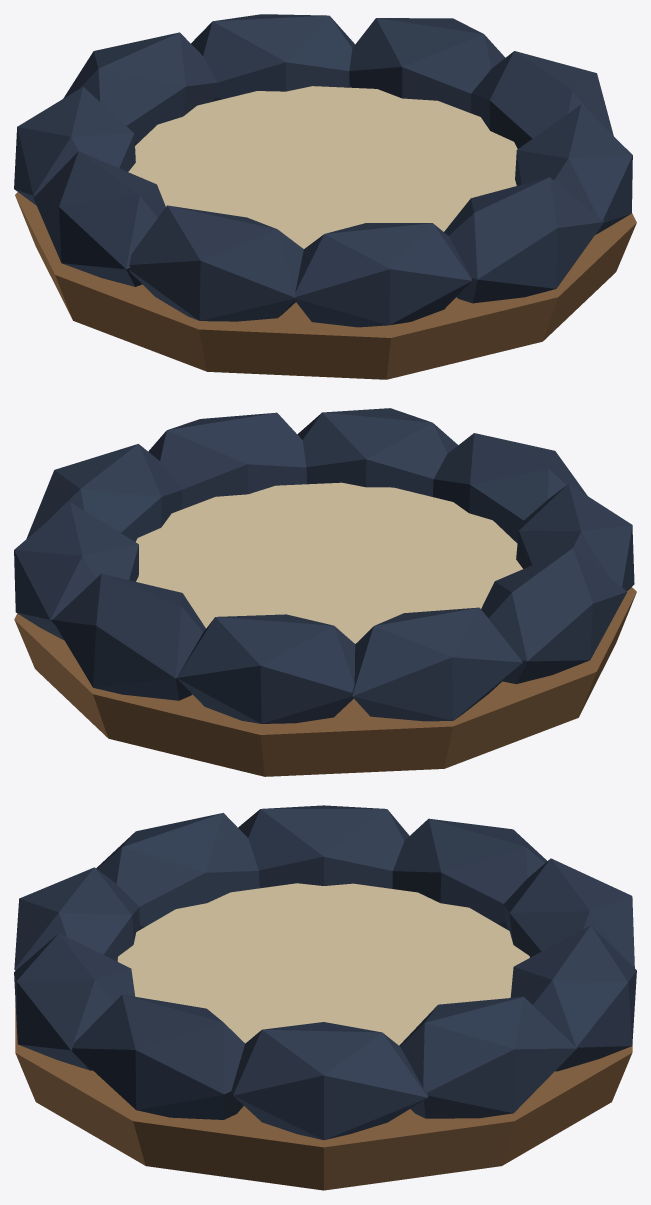
File: biscuit_bed.glb
3 views of the same model, one above another, from view 1: azimuth 30°, elevation 25°; view 2: azimuth 150°, elevation 25°; view 3: azimuth 270°, elevation 25° (orthographic). The views are drawn at different scales.
Parts seen in each view (by area): view 1: biscuit_bed; view 2: biscuit_bed; view 3: biscuit_bed.
Boxes of the visible parts, left/top/right/bottom form: biscuit_bed: left=14, top=14, right=636, bottom=379; biscuit_bed: left=14, top=408, right=636, bottom=776; biscuit_bed: left=14, top=805, right=636, bottom=1190.
Bounding box in the file's own units: 0.9003 × 0.2222 × 0.8638.
